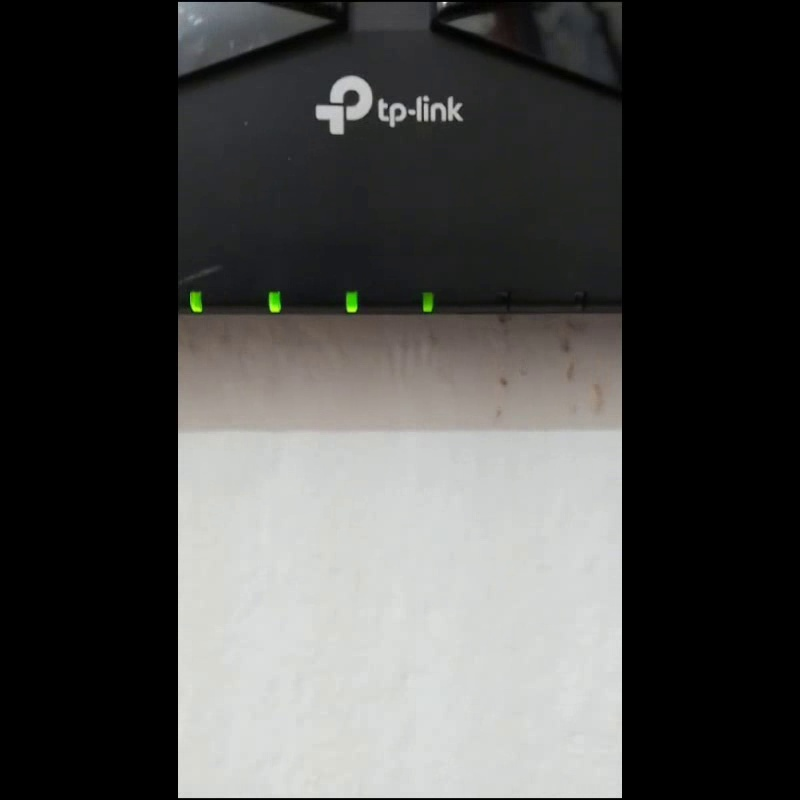off: (572, 290, 584, 307), (499, 290, 509, 309)
on_green: (189, 290, 202, 311), (345, 291, 357, 312), (268, 291, 280, 312), (422, 293, 433, 311)
